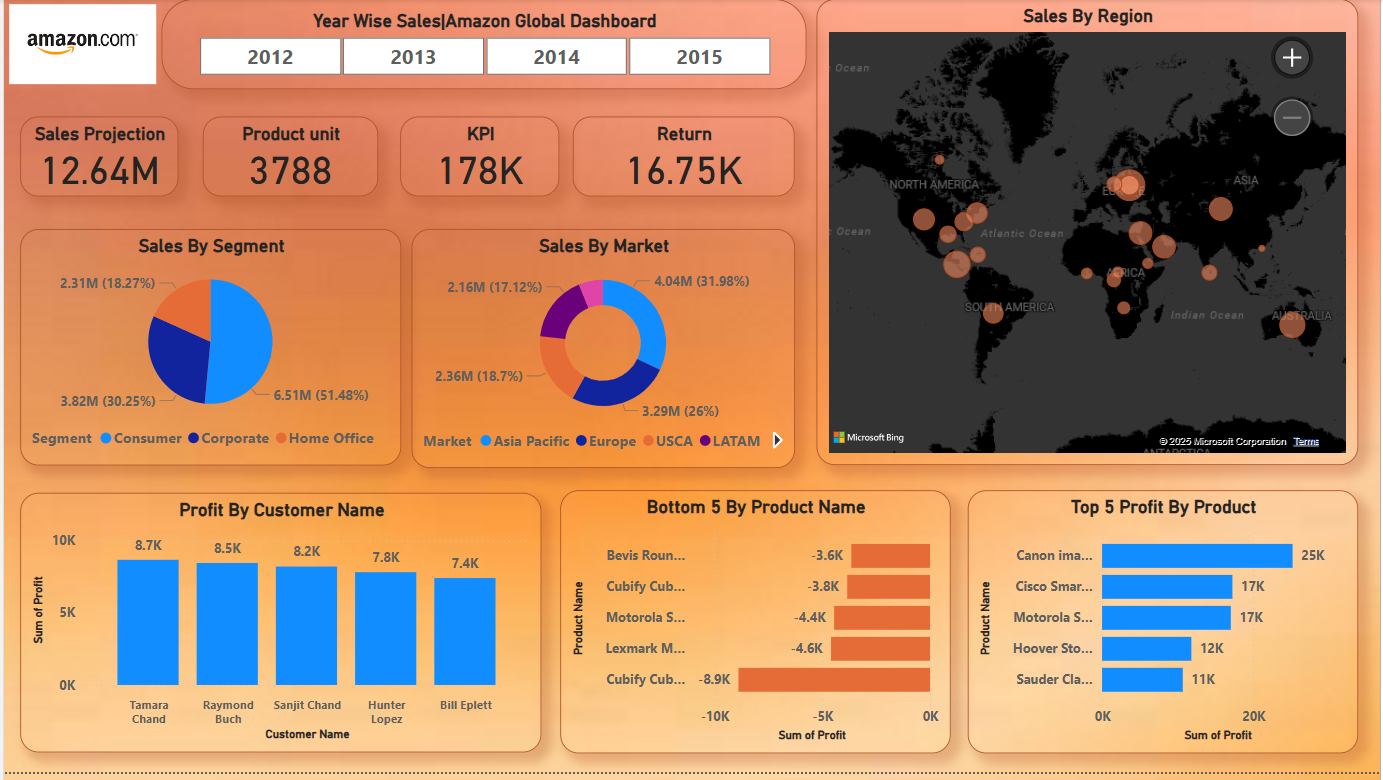

What the dashboard file says about the page in this screenshot:
{"tool":"powerbi","page":{"name":"Page 1","canvas":[1280,720],"ordinal":0},"visuals":[{"type":"slicer","title":"Year Wise Sales|Amazon Global Dashboard","fields":{"Values":["Orders.Year"]},"box":[146.9,0,600,84],"z":0},{"type":"card","title":"Sales Projection","fields":{"Values":["Orders.Sales"]},"box":[14.8,109.9,146.9,74.1],"z":1000},{"type":"image","box":[0,0,146.9,84],"z":2000},{"type":"card","title":"Product unit","fields":{"Values":["Orders.Product Name"]},"box":[185.2,109.9,163,74.1],"z":3000},{"type":"card","title":"KPI","fields":{"Values":["Orders.Quantity"]},"box":[369.1,109.9,148.1,74.1],"z":4000},{"type":"card","title":"Return","fields":{"Values":["Orders.Shipping Cost"]},"box":[529.6,109.9,206.2,74.1],"z":5000},{"type":"pieChart","title":"Sales By Segment","fields":{"Category":["Orders.Segment"],"Y":["Orders.Sales"]},"box":[14.8,213.6,354.3,219.8],"z":6000},{"type":"donutChart","title":"Sales By Market","fields":{"Category":["Orders.Market"],"Y":["Orders.Sales"]},"box":[379,213.6,356.8,222.2],"z":7000},{"type":"columnChart","title":"Profit By Customer Name","fields":{"Y":["Orders.Profit"],"Category":["Orders.Customer Name"]},"box":[14.8,459.3,485.2,242],"z":8000},{"type":"clusteredBarChart","title":"Bottom 5 By Product Name","fields":{"Category":["Orders.Product Name"],"Y":["Orders.Profit"]},"box":[517.3,456.8,363,244.4],"z":9000},{"type":"clusteredBarChart","title":"Top 5 Profit By Product","fields":{"Y":["Orders.Profit"],"Category":["Orders.Product Name"]},"box":[896.3,456.8,363,244.4],"z":10000},{"type":"map","title":"Sales By Region","fields":{"Size":["Orders.Sales"],"Category":["Orders.Region"]},"box":[755.6,0,503.7,433.3],"z":11000}]}

Visuals, with their boxes in screenshot pixels (x1, y1, x2, y2), scaled from the page's 1280x720 canvas onto the 1383x780 screenshot:
"Year Wise Sales|Amazon Global Dashboard" slicer: x1=159, y1=0, x2=807, y2=91
"Sales Projection" card: x1=16, y1=119, x2=175, y2=199
image: x1=0, y1=0, x2=159, y2=91
"Product unit" card: x1=200, y1=119, x2=376, y2=199
"KPI" card: x1=399, y1=119, x2=559, y2=199
"Return" card: x1=572, y1=119, x2=795, y2=199
"Sales By Segment" pieChart: x1=16, y1=231, x2=399, y2=470
"Sales By Market" donutChart: x1=409, y1=231, x2=795, y2=472
"Profit By Customer Name" columnChart: x1=16, y1=498, x2=540, y2=760
"Bottom 5 By Product Name" clusteredBarChart: x1=559, y1=495, x2=951, y2=760
"Top 5 Profit By Product" clusteredBarChart: x1=968, y1=495, x2=1361, y2=760
"Sales By Region" map: x1=816, y1=0, x2=1361, y2=469
